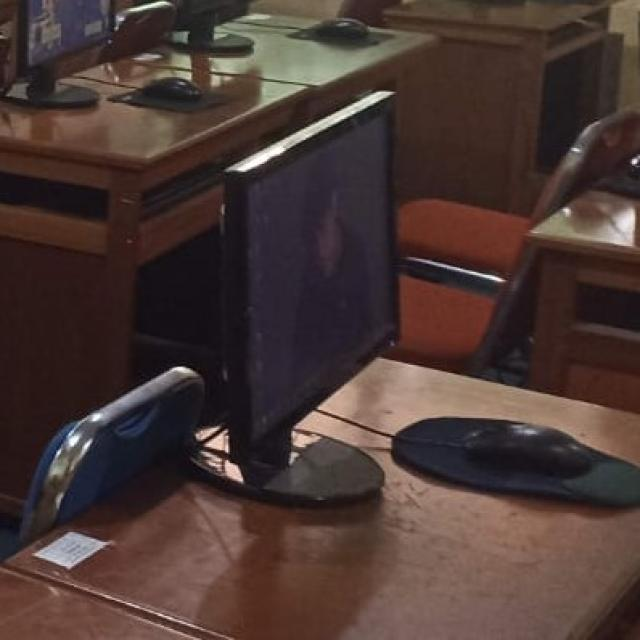onscreen: (223, 91, 397, 467)
